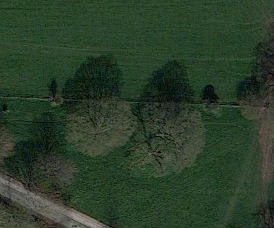tree: (59, 89, 138, 159), (32, 138, 76, 191)
